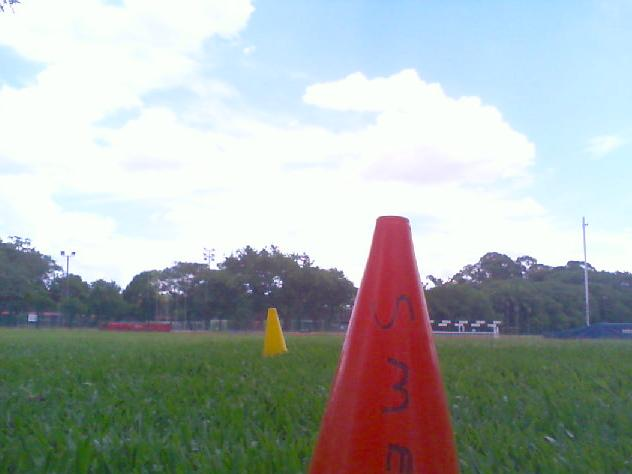0 cone: (307, 216, 461, 474), (263, 308, 286, 355)
